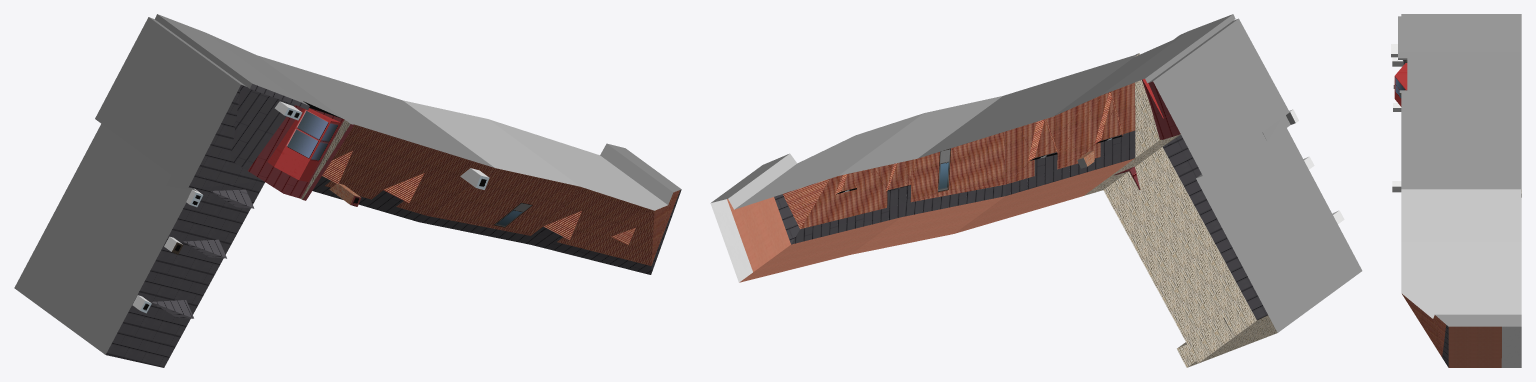
Rendered from Pikk_41_2.obj.
3 views of the same model, side by side, from view 1: azimuth 30°, elevation 25°; view 2: azimuth 150°, elevation 25°; view 3: azimuth 270°, elevation 25° (orthographic). The views are drawn at different scales.
Visible parts, largest first — view 1: Pikk_41_2; view 2: Pikk_41_2; view 3: Pikk_41_2.
Part boxes in pixels (x1=…): Pikk_41_2: x1=14, y1=14, x2=681, y2=367; Pikk_41_2: x1=710, y1=14, x2=1362, y2=367; Pikk_41_2: x1=1391, y1=14, x2=1521, y2=367.
Bounding box in the file's own units: 39.88 × 20.37 × 11.34.
